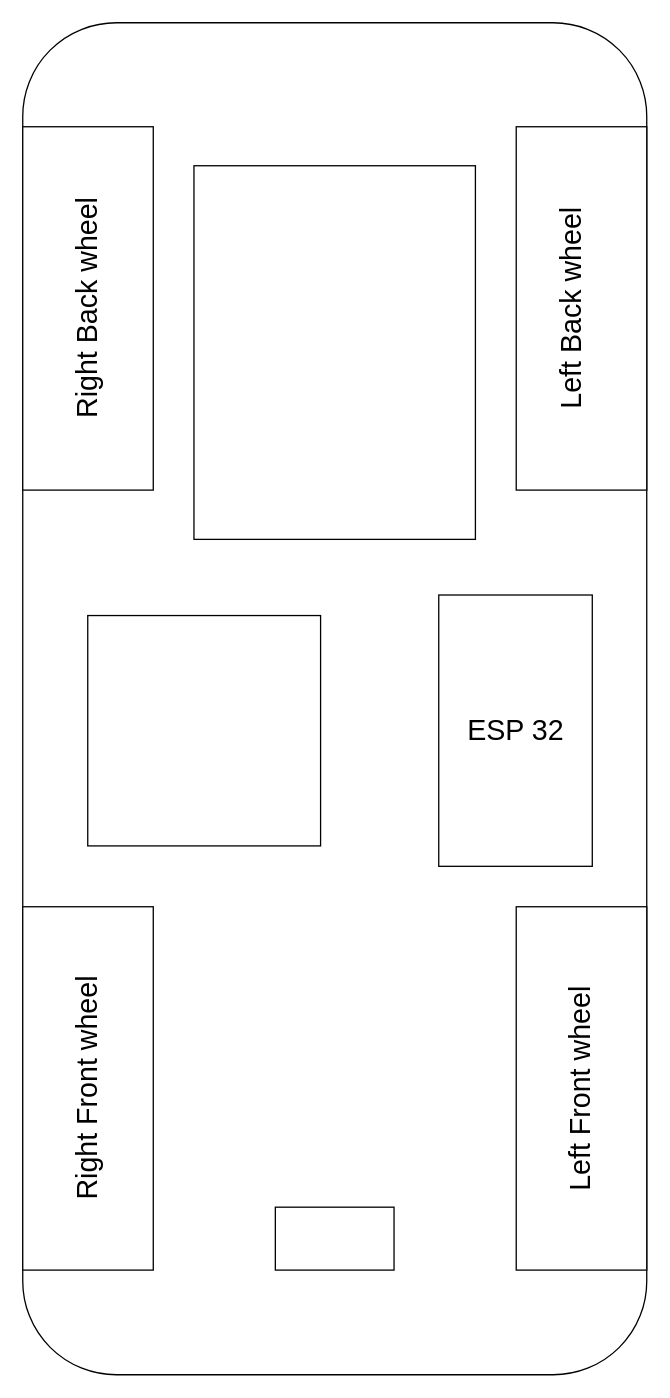
Image size: 670x1398. Some labels were removed from this diagram. The centre of each missing label's shape, as x and y in pixels:
Battery Pack: point 334,351
L298N: point 203,730
Servo: point 334,1238
